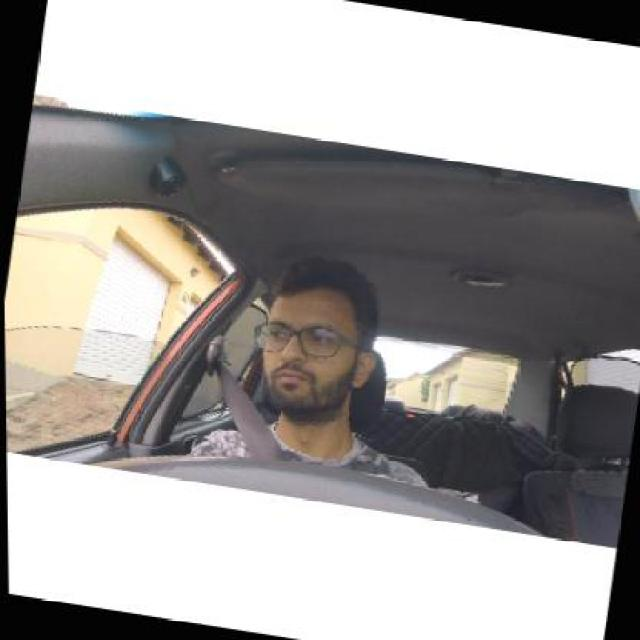LeftRight: (252, 255, 387, 419)
